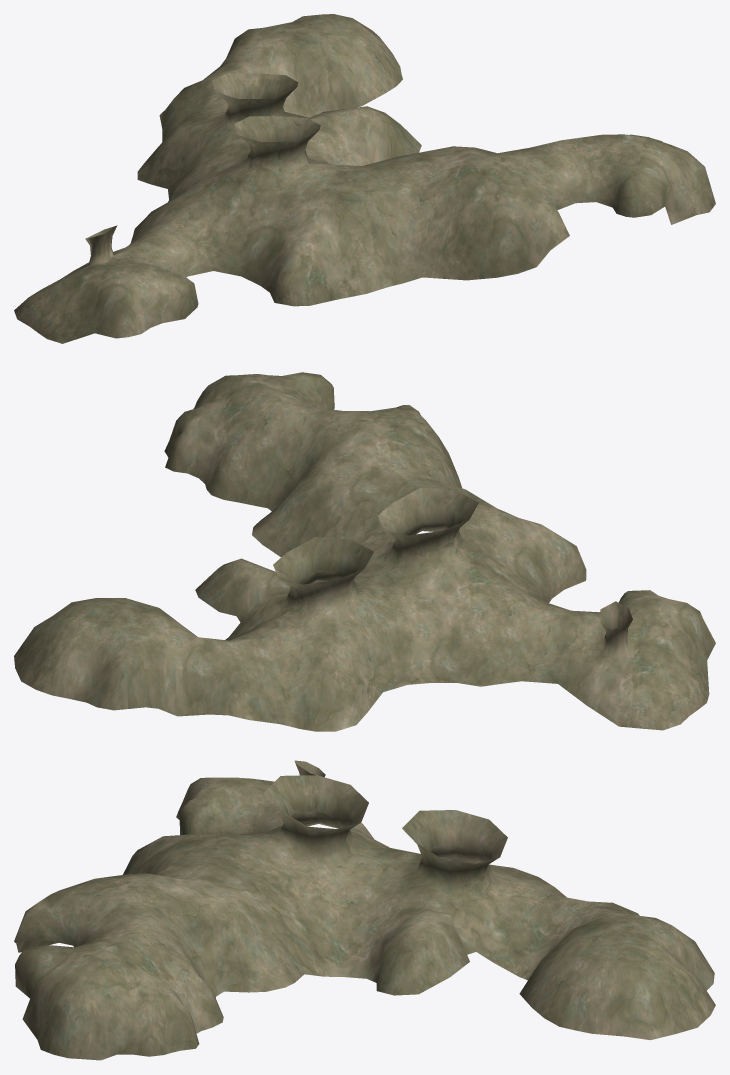
Rendered from EKH_GROTTO_PS_GR_CAVEROOF019282.fbx.
3 renders of one model, top to bottom at view 1: azimuth 30°, elevation 25°; view 2: azimuth 150°, elevation 25°; view 3: azimuth 270°, elevation 25°, orthographic. The views are drawn at different scales.
Visible parts, largest first — view 1: EKH_GROTTO_PS_GR_CAVEROOF019282; view 2: EKH_GROTTO_PS_GR_CAVEROOF019282; view 3: EKH_GROTTO_PS_GR_CAVEROOF019282.
Boxes of the visible parts, x1=… form: EKH_GROTTO_PS_GR_CAVEROOF019282: x1=14, y1=14, x2=715, y2=343; EKH_GROTTO_PS_GR_CAVEROOF019282: x1=14, y1=372, x2=715, y2=731; EKH_GROTTO_PS_GR_CAVEROOF019282: x1=14, y1=760, x2=715, y2=1060.
Bounding box in the file's own units: 405398 × 95117 × 378314.
1 material, 1 textured.
